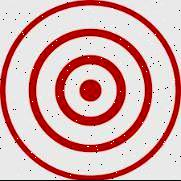target_red: (0, 0, 180, 179)
